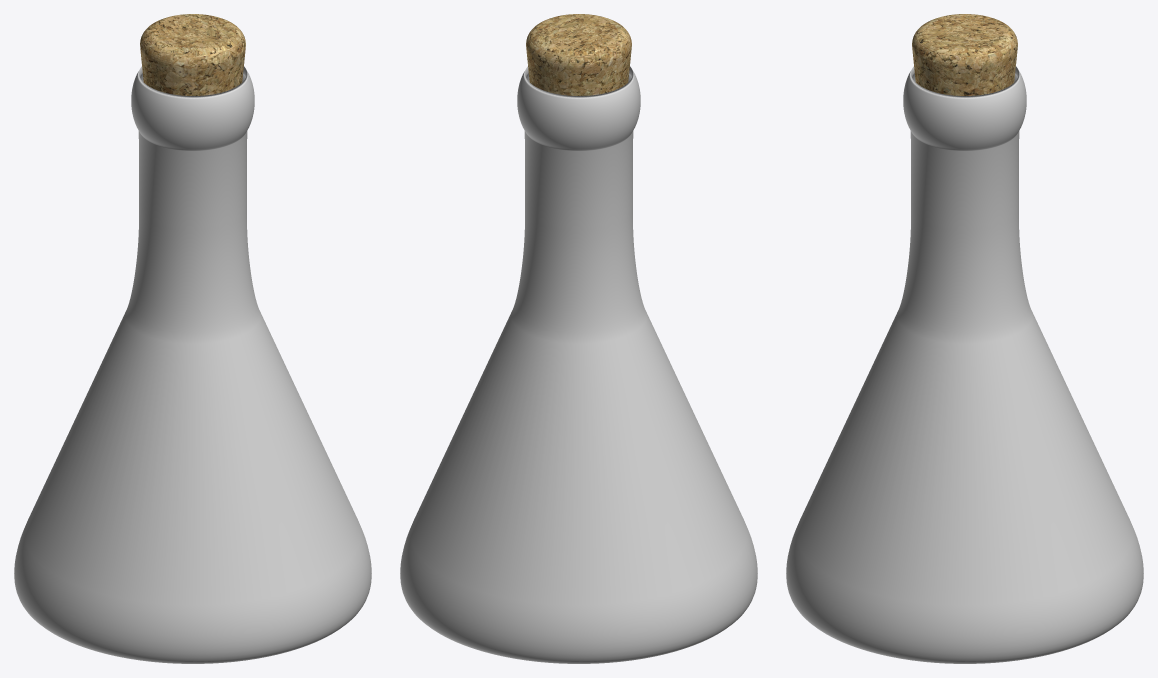
Rendered from Potion.fbx.
3 views of the same model, side by side, from view 1: azimuth 30°, elevation 25°; view 2: azimuth 150°, elevation 25°; view 3: azimuth 270°, elevation 25° (orthographic).
Parts seen in each view (by area): view 1: Kolben 1, Cylinder; view 2: Kolben 1, Cylinder; view 3: Kolben 1, Cylinder.
Boxes of the visible parts, <box> form: Kolben 1: <box>14,66,371,663</box>; Cylinder: <box>140,14,245,95</box>; Kolben 1: <box>400,66,757,663</box>; Cylinder: <box>526,14,631,95</box>; Kolben 1: <box>786,66,1143,663</box>; Cylinder: <box>912,14,1017,95</box>.
Bounding box in the file's own units: 663 × 1149 × 664.
